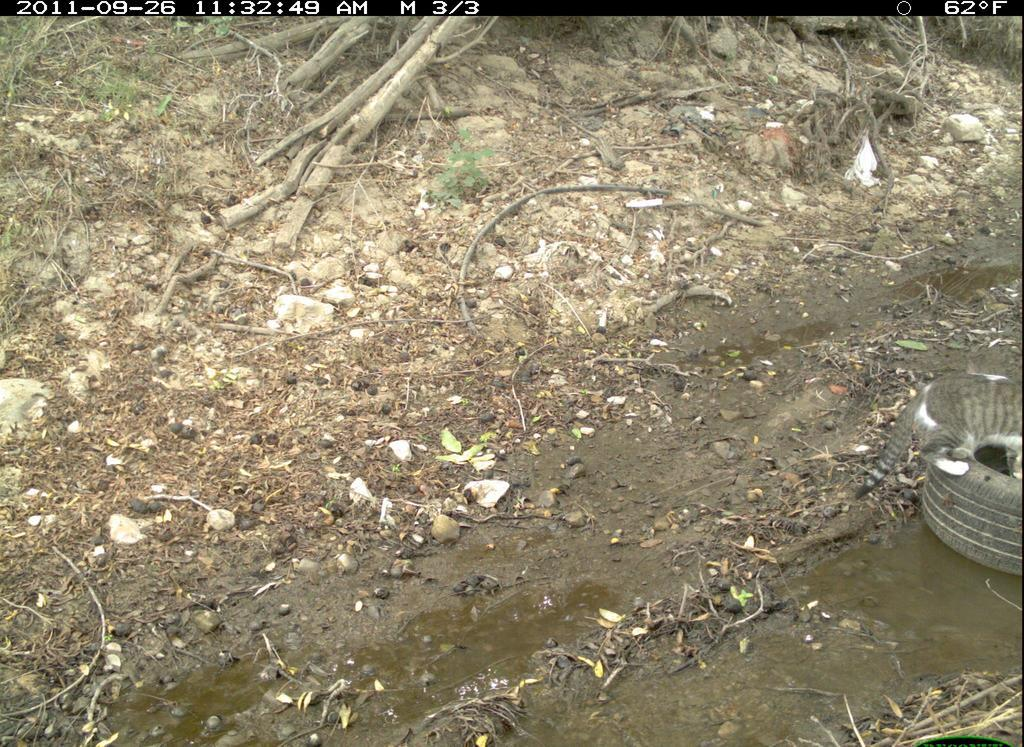cat: (856, 373, 1019, 520)
